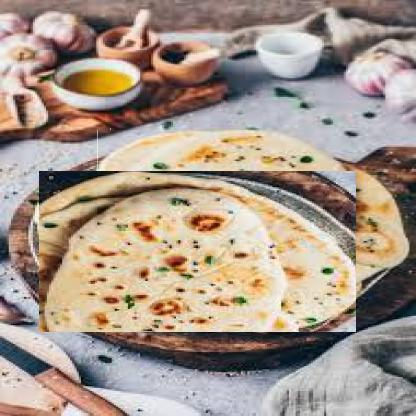naan: (97, 130, 408, 310), (38, 171, 356, 332), (110, 128, 351, 316)
